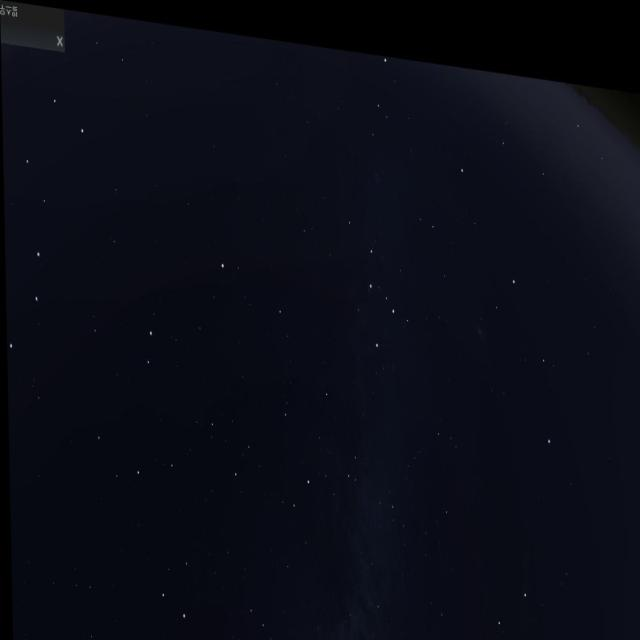cassiopeia: (338, 195, 413, 349)
ursa_major: (1, 64, 95, 366)
